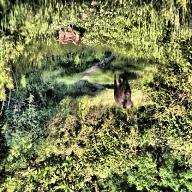boar: (101, 68, 137, 115)
